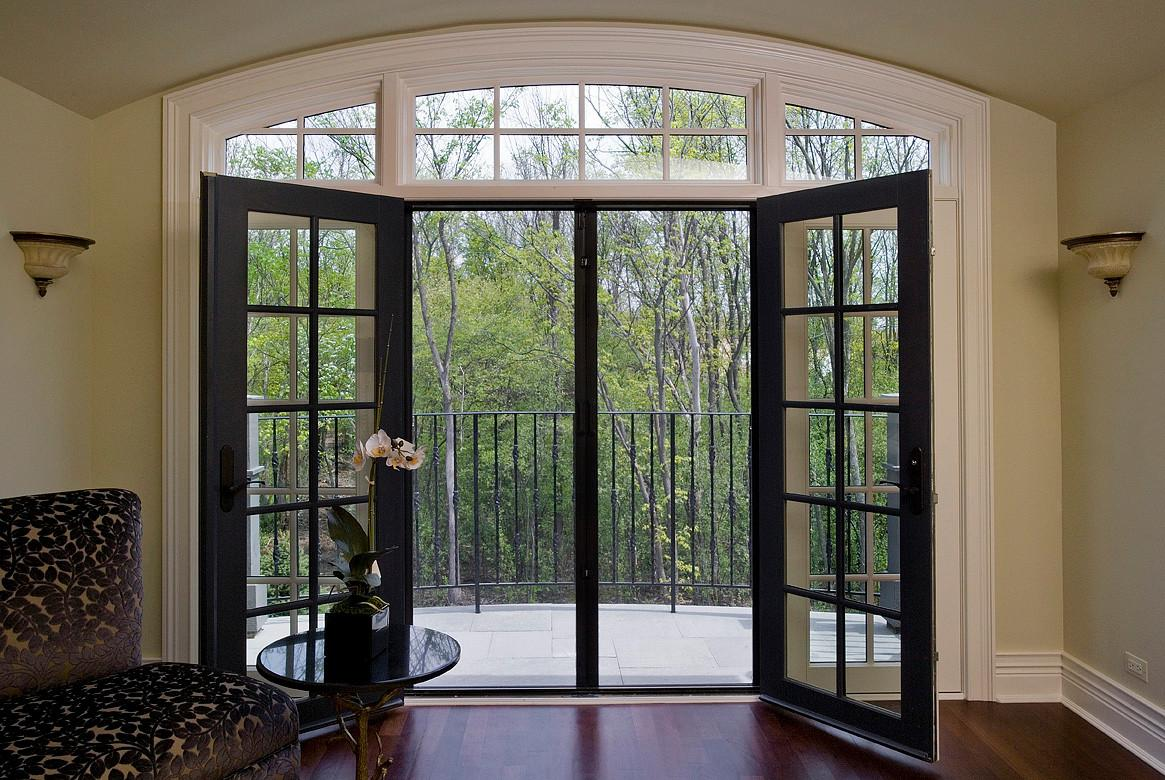door: (746, 157, 936, 775), (206, 176, 421, 705)
light: (9, 210, 97, 299), (1059, 222, 1150, 304)
sofa: (3, 487, 305, 780)
switchboard: (1116, 649, 1158, 683)
table: (253, 619, 467, 780)
